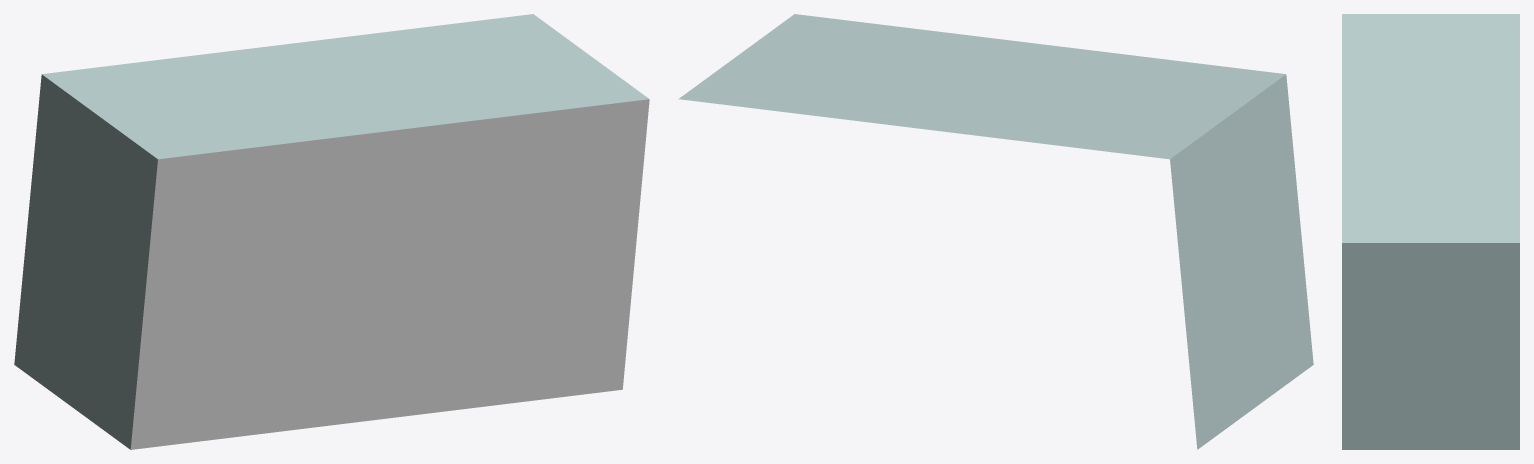
3 views of the same model, side by side, from view 1: azimuth 30°, elevation 25°; view 2: azimuth 150°, elevation 25°; view 3: azimuth 270°, elevation 25° (orthographic). The views are drawn at different scales.
Visible parts, largest first — view 1: 0_2_1_2_0_0_2_1_2; view 2: 0_2_1_2_0_0_2_1_2; view 3: 0_2_1_2_0_0_2_1_2.
Boxes of the visible parts, bbox=[...] form: 0_2_1_2_0_0_2_1_2: bbox=[14, 14, 649, 449]; 0_2_1_2_0_0_2_1_2: bbox=[678, 14, 1313, 449]; 0_2_1_2_0_0_2_1_2: bbox=[1342, 14, 1519, 449].
Size of the model in its own units: 7.73 by 4.89 by 3.
